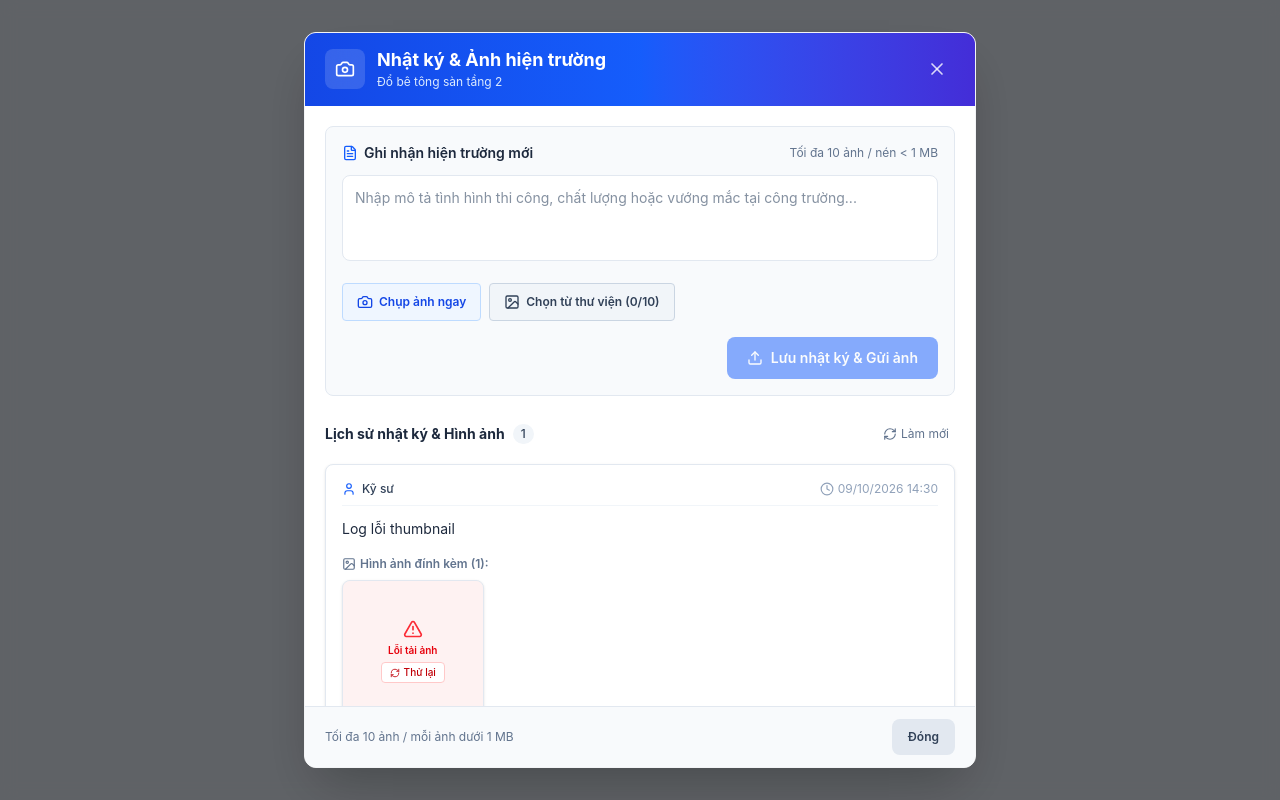
Test: TaskLogModal (S-23 / T-53) › T54 – Thumbnail & Xem ảnh gốc theo yêu cầu › AC1 & Resilience: Thumbnail tải lỗi -> hiện thông báo 'Lỗi tải ảnh' và nút Thử lại
The image size is (1280, 800).
Expected: the element with test id "thumbnail-error" is shown, [343,581,482,706]
Expected: the text "Lỗi tải ảnh" is shown, [388,643,437,658]
# Bấm nút thử lại
Click the button with test id "thumbnail-retry-btn": [413, 672] box [381,662,445,683]
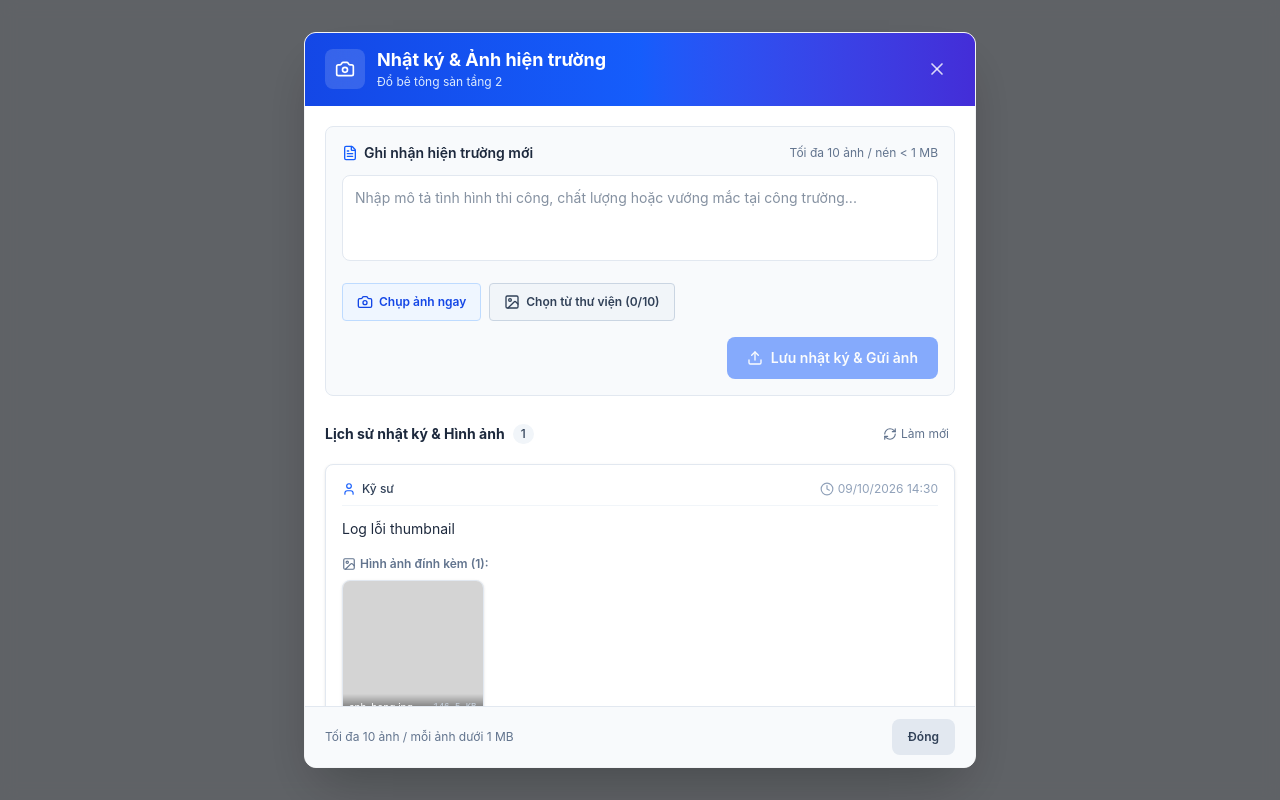
Result: the element with test id "thumbnail-error" is gone
